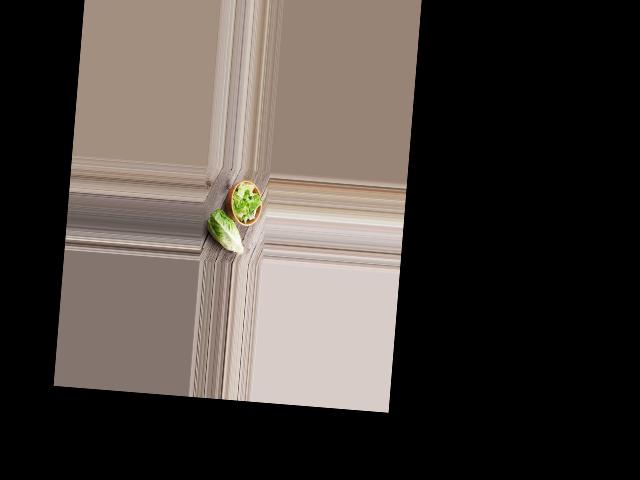lettuce: (204, 208, 247, 253)
